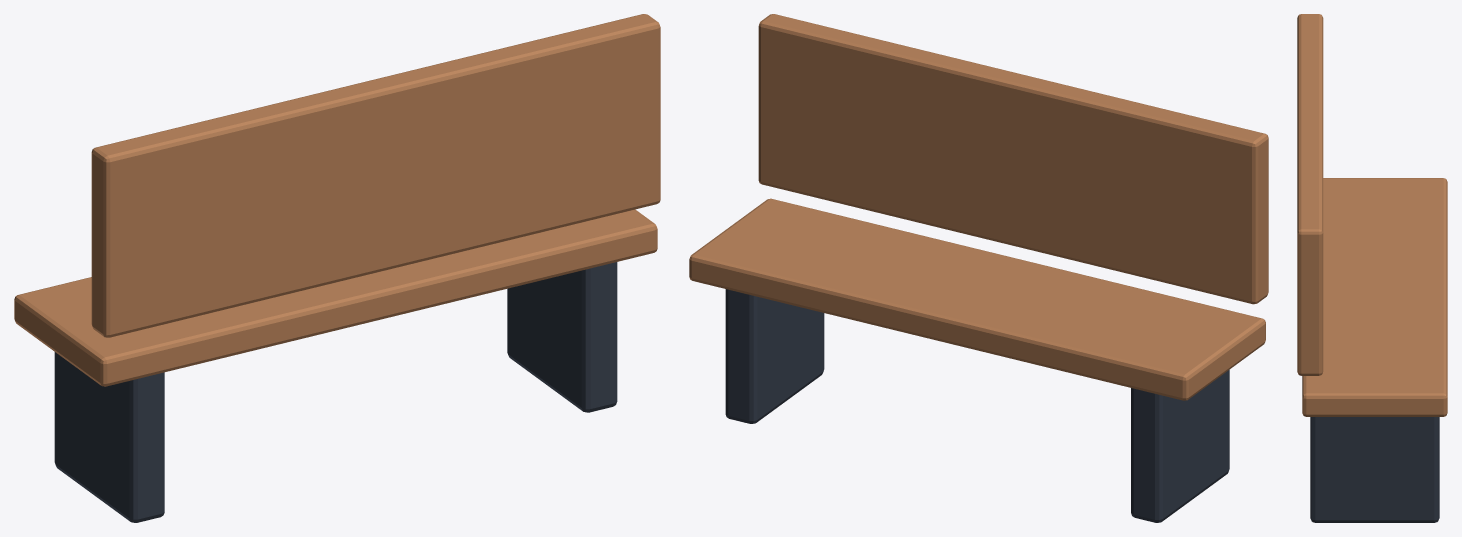
Rendered from Skate_Bench.fbx.
3 renders of one model, left to right at view 1: azimuth 30°, elevation 25°; view 2: azimuth 150°, elevation 25°; view 3: azimuth 270°, elevation 25°, orthographic. The views are drawn at different scales.
Parts seen in each view (by area): view 1: Bench; view 2: Bench; view 3: Bench.
Part boxes in pixels (box(x1,y1,x2,y2)): Bench: box(14, 14, 660, 522); Bench: box(689, 14, 1268, 522); Bench: box(1297, 14, 1447, 522).
Bounding box in the file's own units: 1.6 × 1.05 × 0.465.
